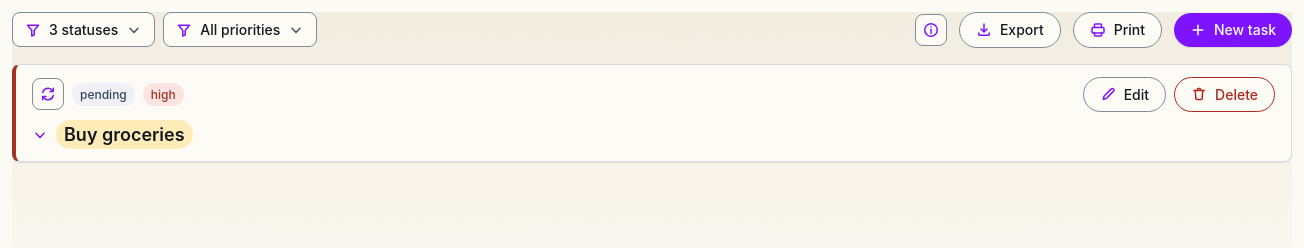
Test case: TaskList › export › shows a generic message for a failure with no actionable detail
Click the button "Export".
click(1010, 30)  # box 959,12 -> 1061,48
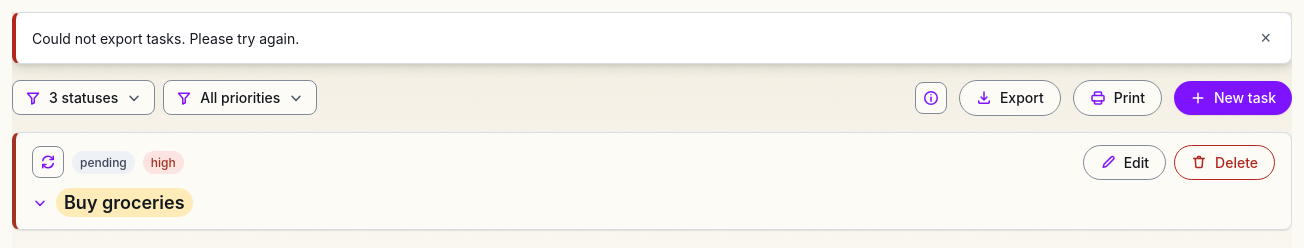
Check: the text "Could not export tasks. Please try again." is shown, box 32,30 -> 299,46
